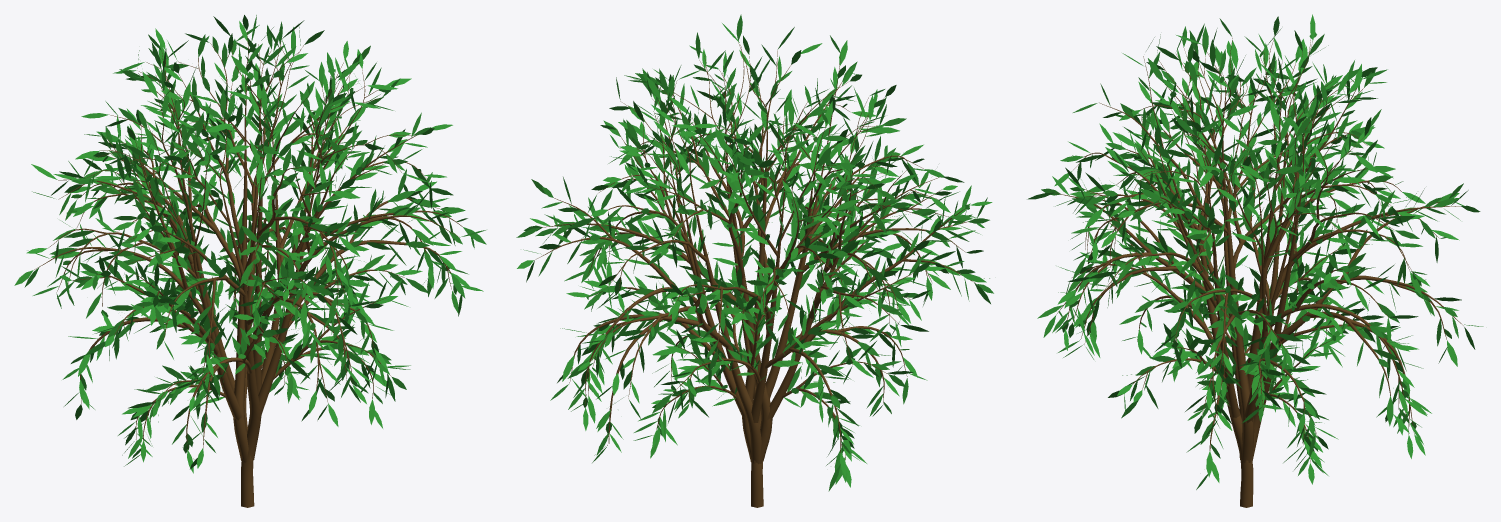
Rendered from tree.fbx.
3 renders of one model, left to right at view 1: azimuth 30°, elevation 25°; view 2: azimuth 150°, elevation 25°; view 3: azimuth 270°, elevation 25°, orthographic. The views are drawn at different scales.
Visible parts, largest first — view 1: leaves, tree; view 2: leaves, tree; view 3: leaves, tree.
Part boxes in pixels (x1,y1,x2,y2): leaves: (14, 15, 486, 473); tree: (34, 32, 462, 507); leaves: (516, 14, 993, 491); tree: (535, 42, 974, 507); leaves: (1027, 14, 1483, 489); tree: (1055, 36, 1463, 507).
Bounding box in the file's own units: 634 × 686 × 593.
